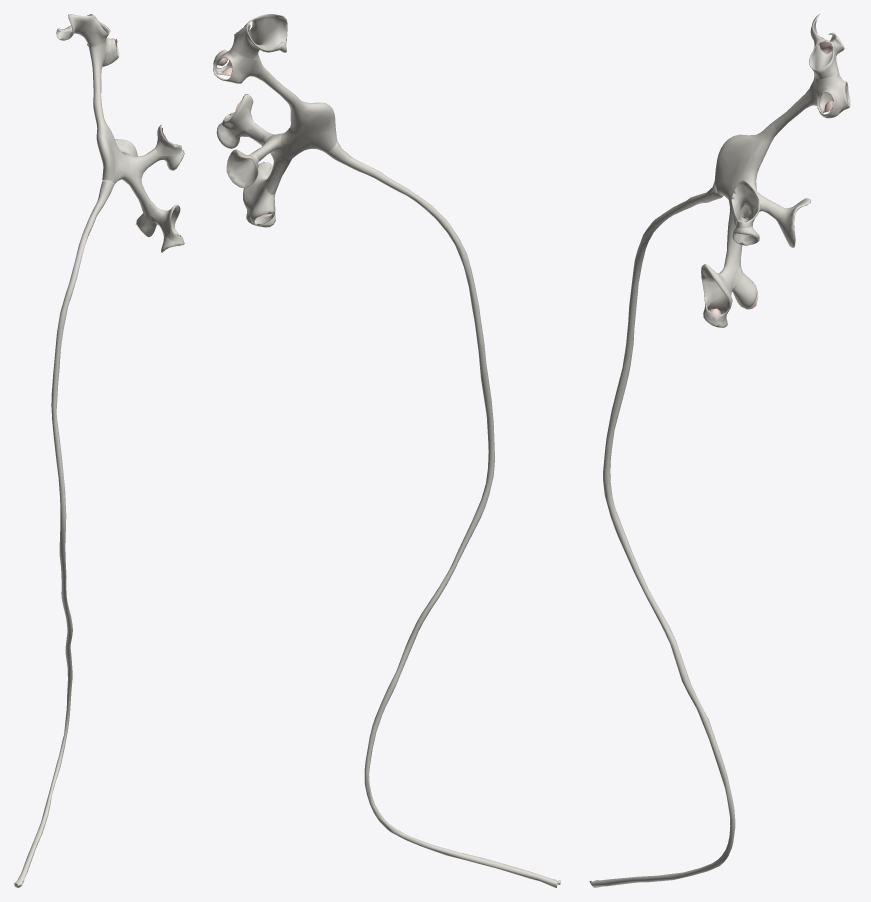
The model's file is ureter_l.glb.
The picture shows the model from 3 angles, left to right: view 1: azimuth 30°, elevation 25°; view 2: azimuth 150°, elevation 25°; view 3: azimuth 270°, elevation 25°; orthographic projection. The views are drawn at different scales.
Parts seen in each view (by area): view 1: VH_F_minor_calyx_L_a; view 2: VH_F_minor_calyx_L_a; view 3: VH_F_minor_calyx_L_a.
Boxes of the visible parts, bbox=[...] form: VH_F_minor_calyx_L_a: bbox=[14, 14, 184, 887]; VH_F_minor_calyx_L_a: bbox=[213, 14, 560, 887]; VH_F_minor_calyx_L_a: bbox=[589, 14, 850, 887].
Size of the model in its own units: 0.0825 by 0.2659 by 0.0672.
